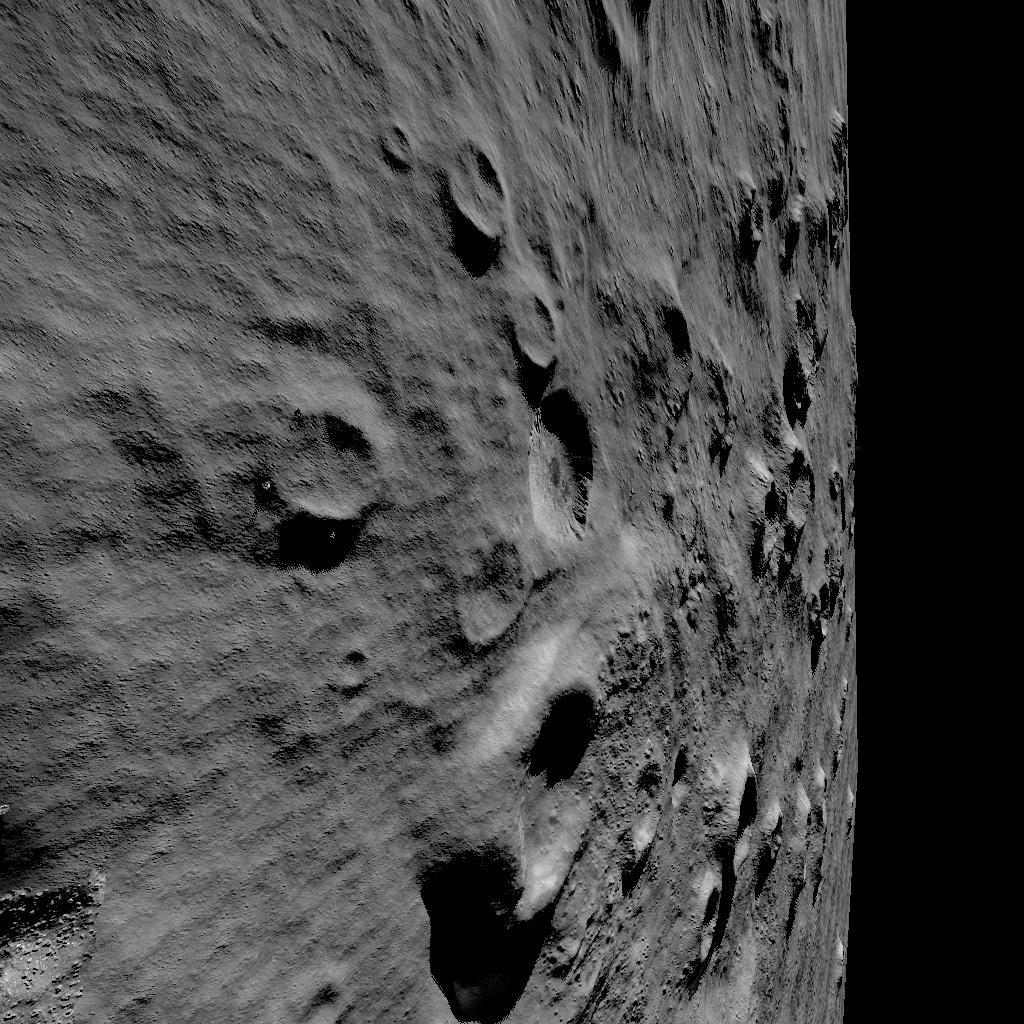Crater: (413, 625, 608, 985), (431, 135, 588, 540), (626, 722, 843, 982), (744, 298, 838, 638), (476, 0, 778, 100), (628, 292, 722, 488), (258, 410, 380, 535), (726, 132, 838, 262)
Plan surface: (0, 0, 386, 395), (54, 565, 370, 1024), (0, 422, 198, 542)
